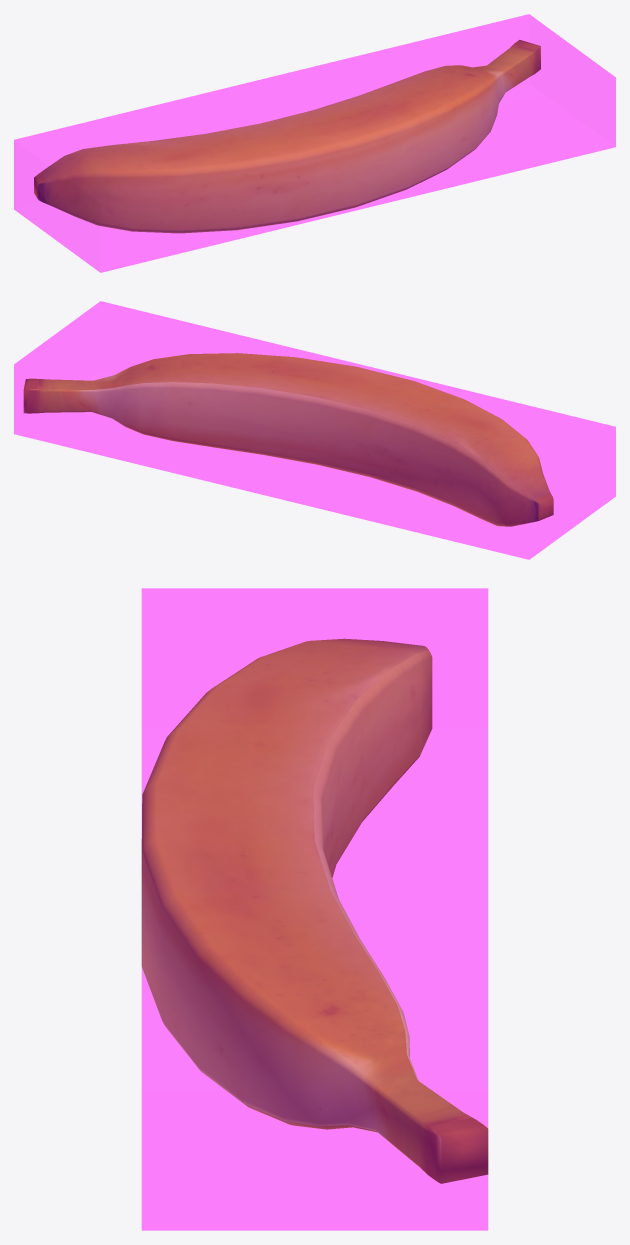
Rendered from banana.fbx.
3 views of the same model, one above another, from view 1: azimuth 30°, elevation 25°; view 2: azimuth 150°, elevation 25°; view 3: azimuth 270°, elevation 25° (orthographic). The views are drawn at different scales.
Parts seen in each view (by area): view 1: boundingbox, banana; view 2: boundingbox, banana; view 3: boundingbox, banana.
Part boxes in pixels (x1=…): boundingbox: x1=14, y1=14, x2=615, y2=272; banana: x1=34, y1=40, x2=540, y2=233; boundingbox: x1=14, y1=301, x2=615, y2=559; banana: x1=23, y1=353, x2=553, y2=526; boundingbox: x1=141, y1=588, x2=488, y2=1230; banana: x1=141, y1=638, x2=488, y2=1183.
Bounding box in the file's own units: 13.78 × 1.78 × 4.01.
2 materials, 1 textured.
